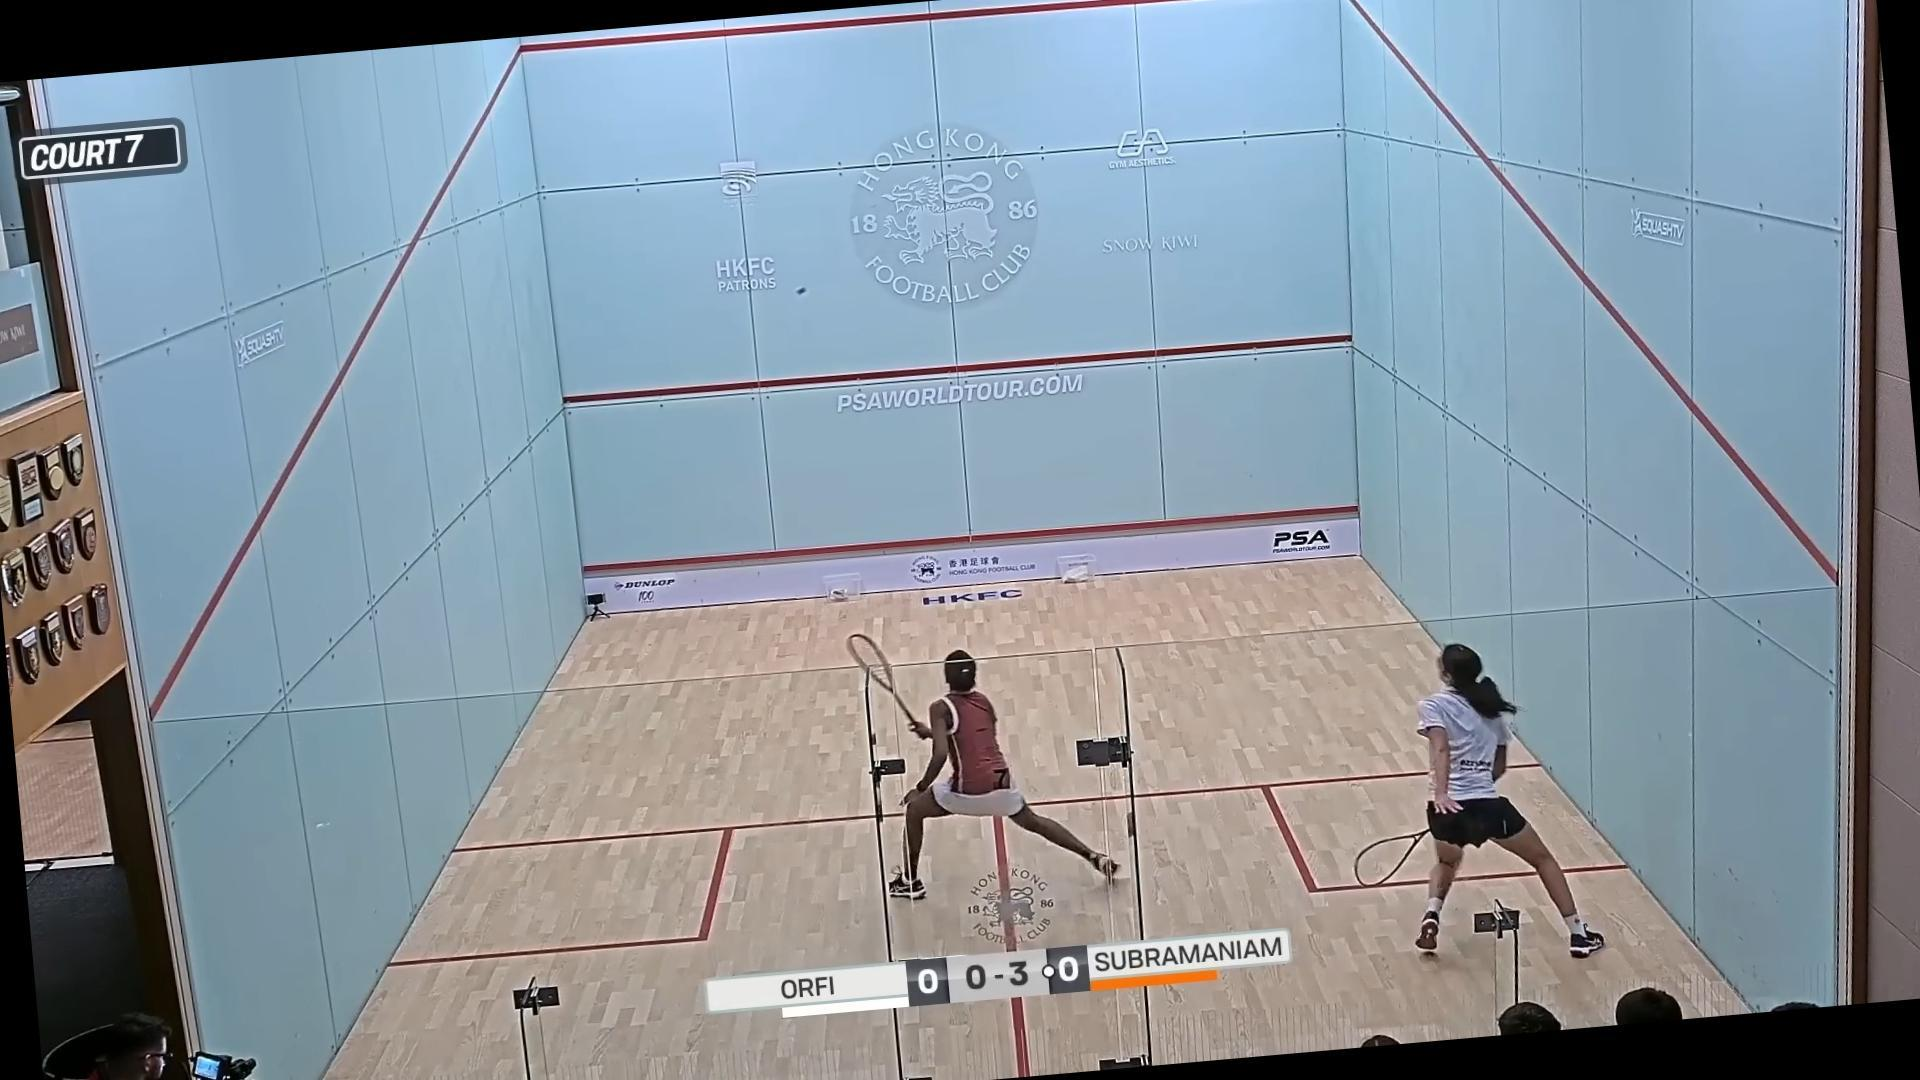Squash-Ball: (786, 278, 816, 307)
